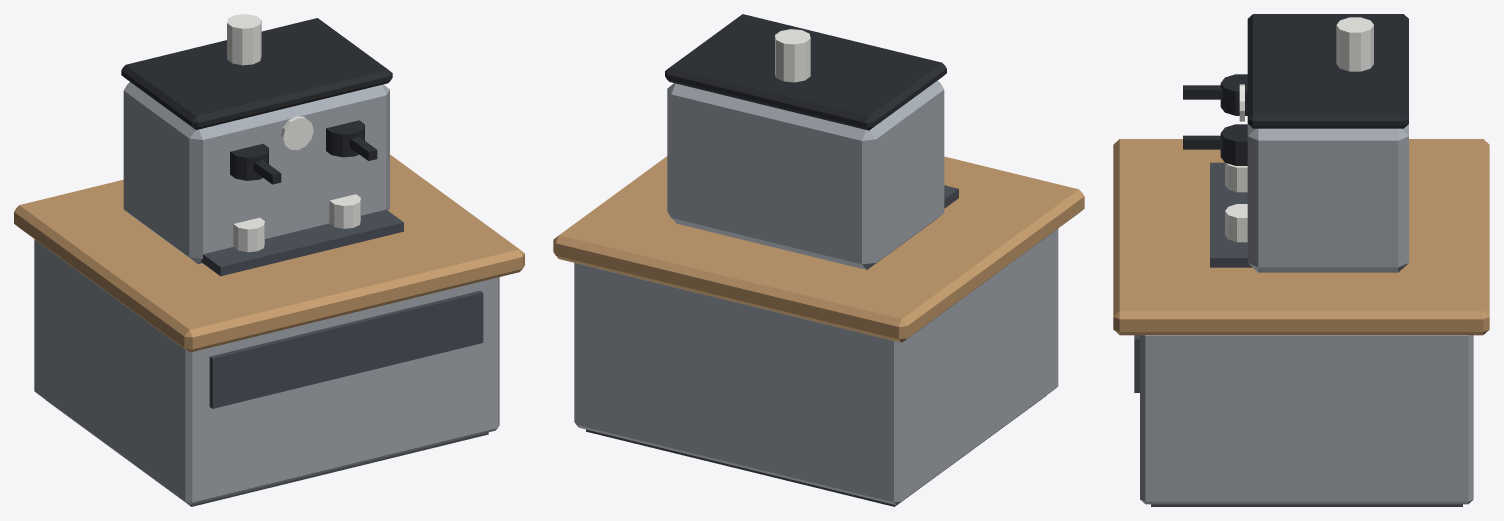
File: coffee_2.glb
The picture shows the model from 3 angles, left to right: view 1: azimuth 30°, elevation 25°; view 2: azimuth 150°, elevation 25°; view 3: azimuth 270°, elevation 25°; orthographic projection. The views are drawn at different scales.
Parts seen in each view (by area): view 1: coffee_2_mesh_Desk, coffee_2_mesh; view 2: coffee_2_mesh_Desk, coffee_2_mesh; view 3: coffee_2_mesh_Desk, coffee_2_mesh.
Boxes of the visible parts, bbox=[...] form: coffee_2_mesh_Desk: bbox=[14, 154, 524, 506]; coffee_2_mesh: bbox=[121, 14, 403, 276]; coffee_2_mesh_Desk: bbox=[553, 156, 1084, 506]; coffee_2_mesh: bbox=[665, 14, 958, 269]; coffee_2_mesh_Desk: bbox=[1113, 139, 1489, 506]; coffee_2_mesh: bbox=[1183, 14, 1408, 272].
Size of the model in its own units: 0.78 by 0.83 by 0.7.
